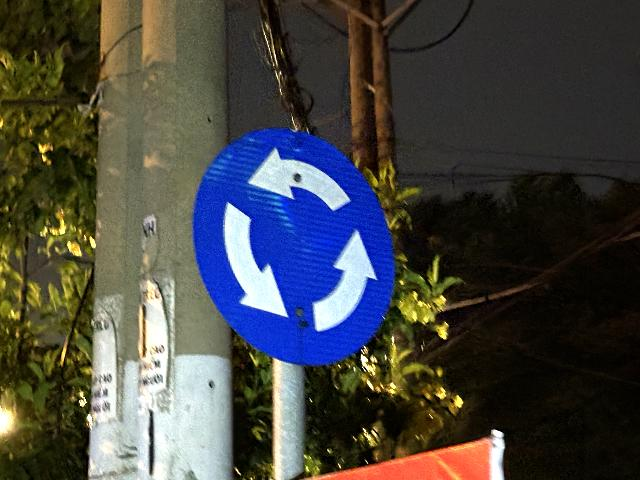noi-giao-nhau-chay-theo-vong-xuyen: (192, 128, 397, 367)
